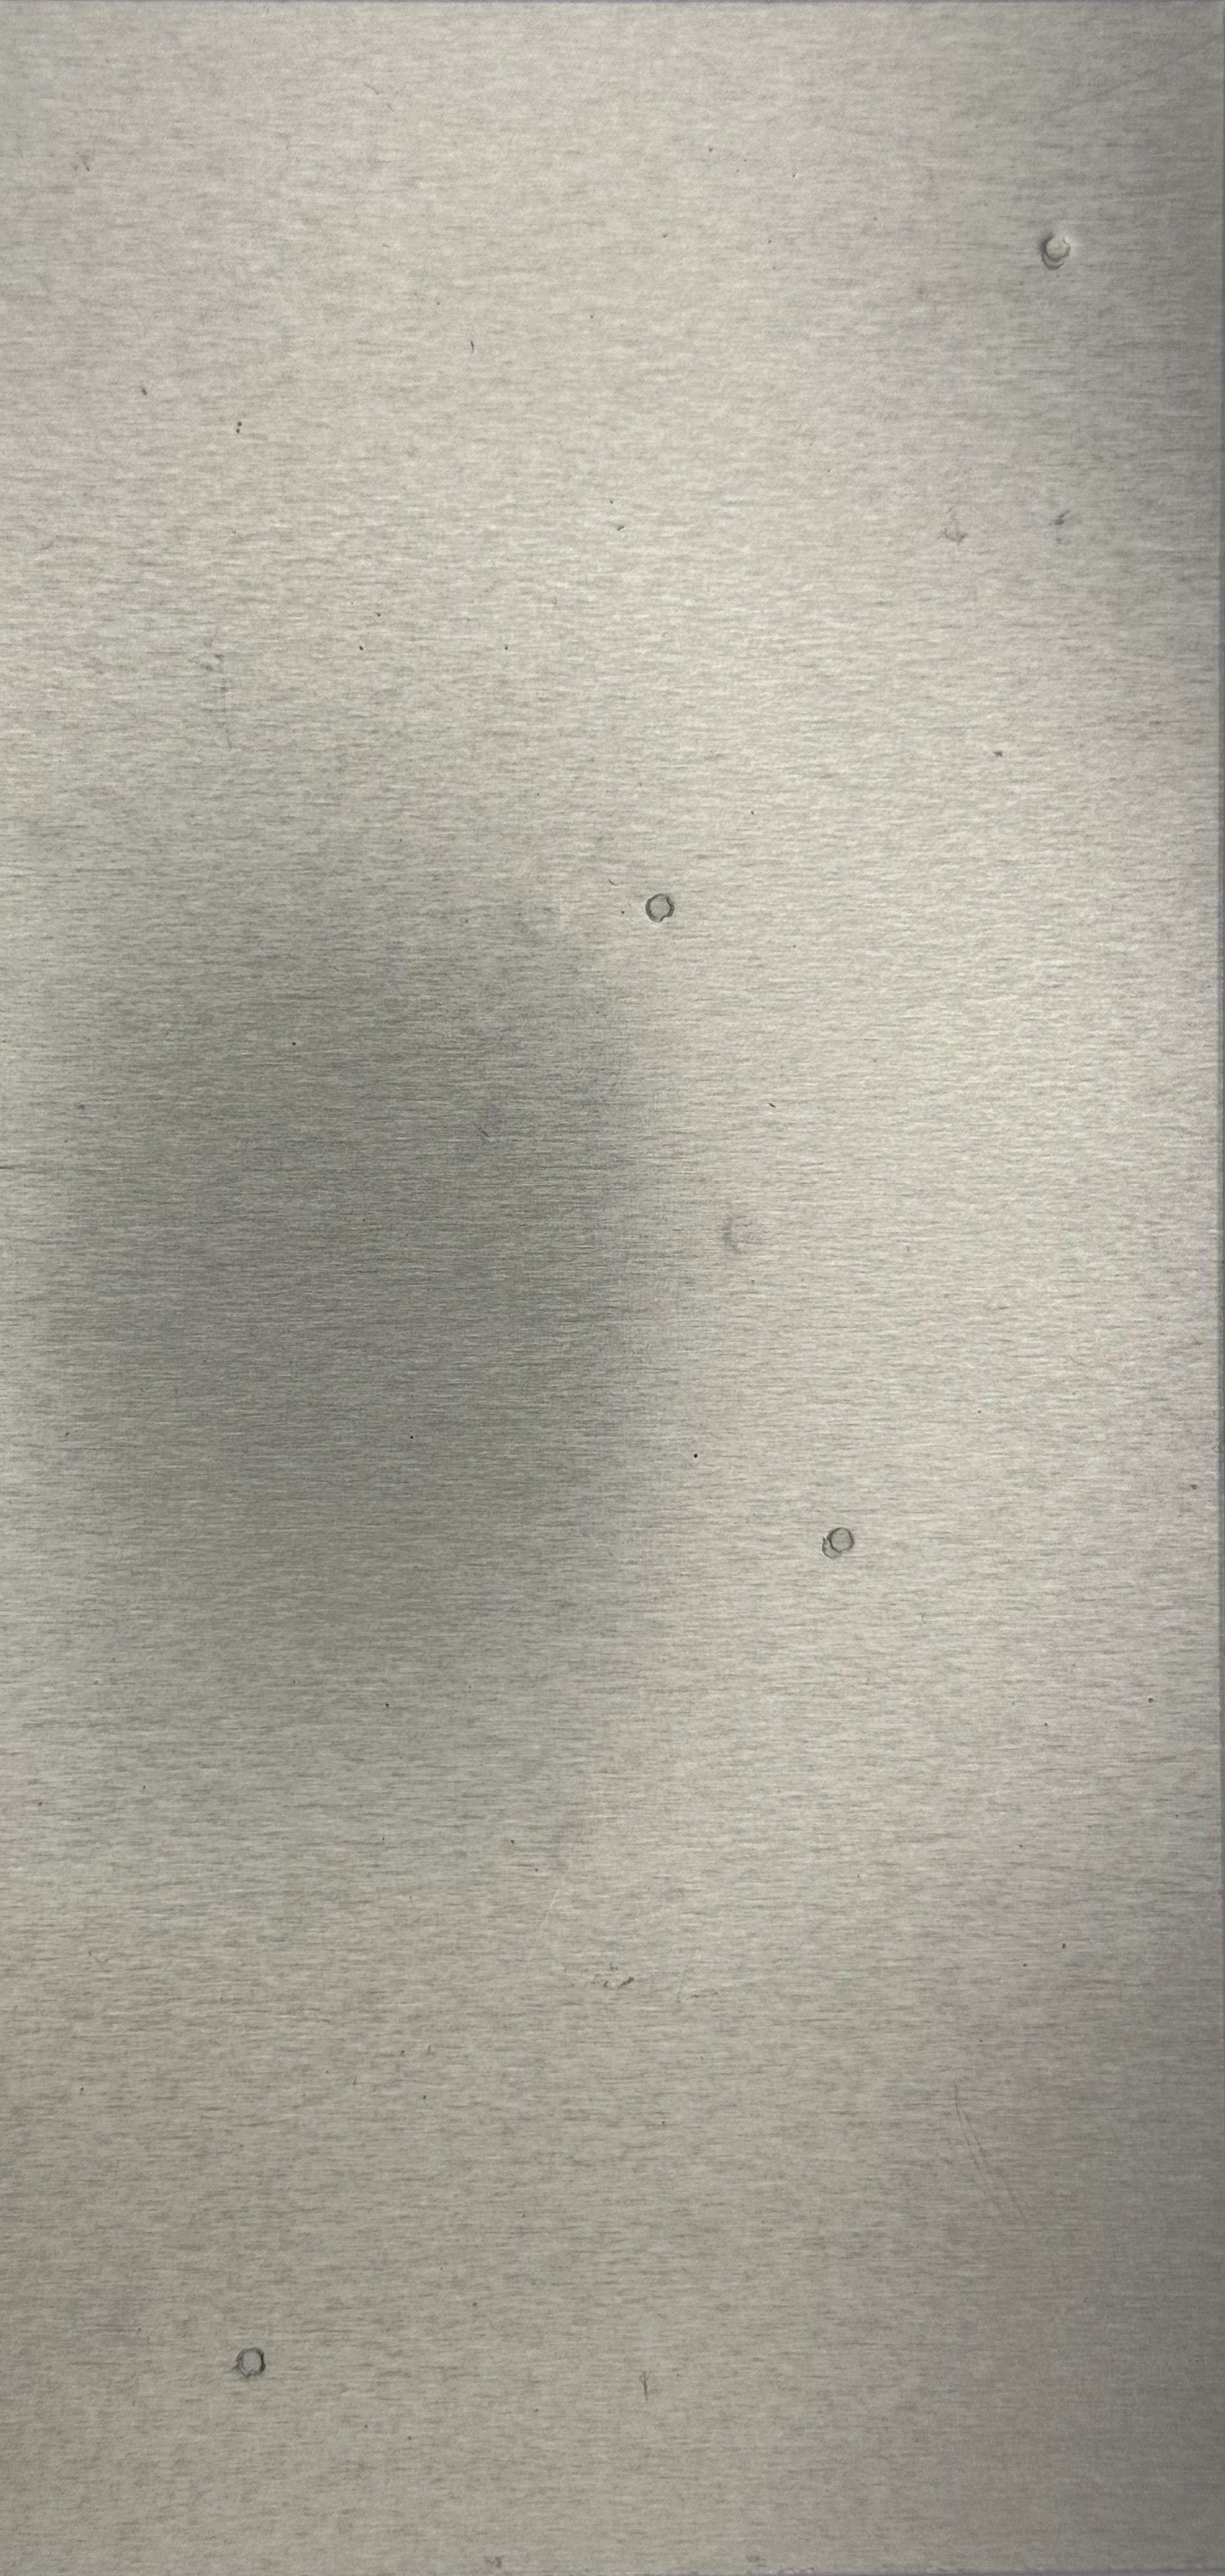Delle: (704, 1198, 791, 1270), (1021, 212, 1089, 287), (627, 879, 700, 941), (806, 1513, 872, 1575), (217, 2334, 289, 2390)
